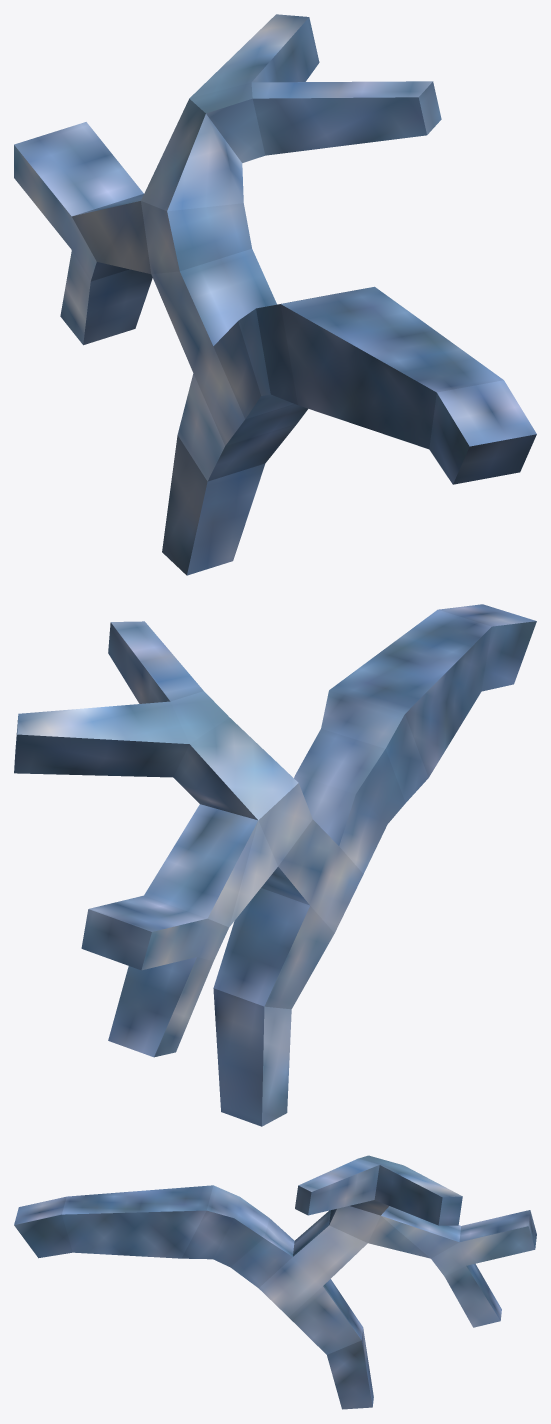
Rendered from wendigoantler.obj.
The picture shows the model from 3 angles, top to bottom: view 1: azimuth 30°, elevation 25°; view 2: azimuth 150°, elevation 25°; view 3: azimuth 270°, elevation 25°; orthographic projection. The views are drawn at different scales.
Visible parts, largest first — view 1: Base; view 2: Base; view 3: Base.
Part boxes in pixels (bbox=[...]): Base: bbox=[14, 14, 536, 575]; Base: bbox=[14, 604, 536, 1126]; Base: bbox=[14, 1155, 536, 1409].
Size of the model in its own units: 0.3729 by 0.6638 by 1.17.
